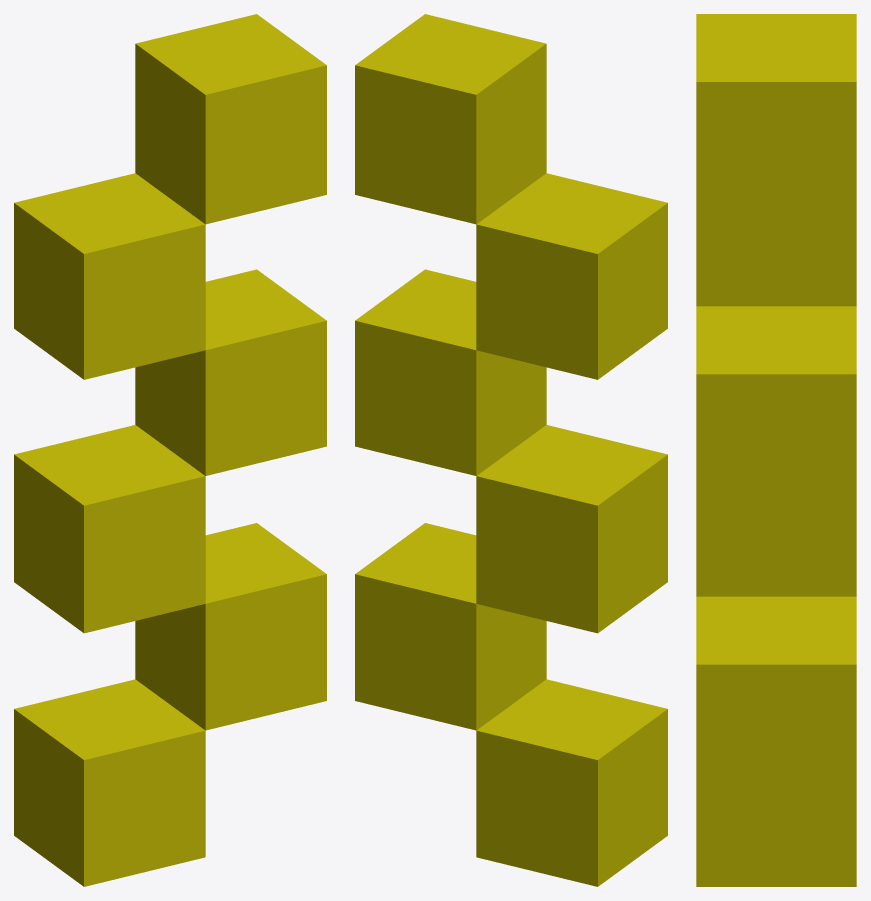
Rendered from invader_bullet.obj.
3 renders of one model, left to right at view 1: azimuth 30°, elevation 25°; view 2: azimuth 150°, elevation 25°; view 3: azimuth 270°, elevation 25°, orthographic. The views are drawn at different scales.
Parts seen in each view (by area): view 1: Cube; view 2: Cube; view 3: Cube.
Boxes of the visible parts, left/top/right/bottom form: Cube: left=14, top=14, right=326, bottom=886; Cube: left=355, top=14, right=667, bottom=886; Cube: left=696, top=14, right=856, bottom=886.
Size of the model in its own units: 2 by 6 by 1.
